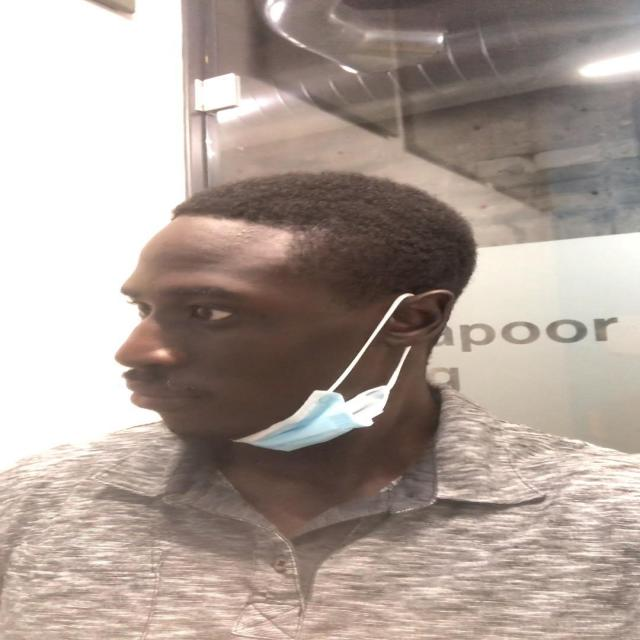face: (111, 224, 437, 442)
